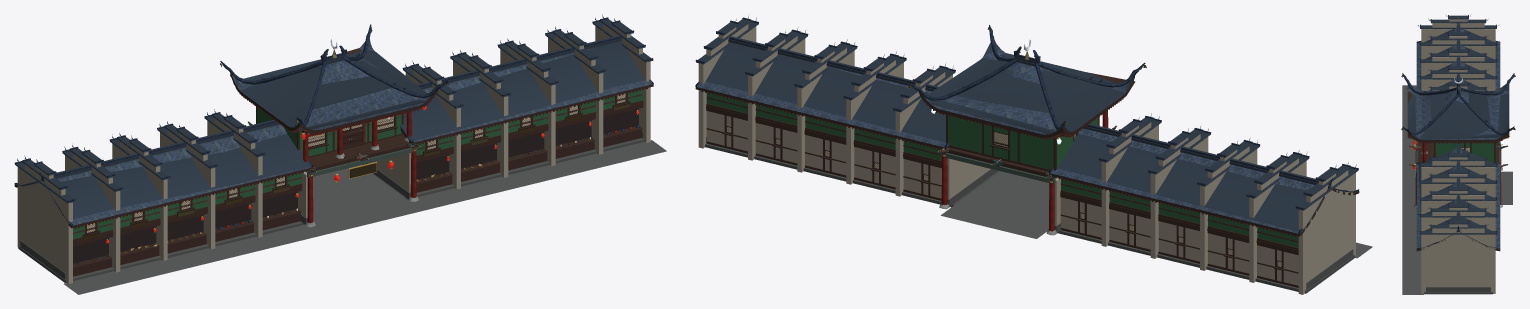
The model's file is prop_market_row.gltf.
3 views of the same model, side by side, from view 1: azimuth 30°, elevation 25°; view 2: azimuth 150°, elevation 25°; view 3: azimuth 270°, elevation 25° (orthographic). The views are drawn at different scales.
Visible parts, largest first — view 1: Far, Near; view 2: Far, Near; view 3: Far, Near.
Part boxes in pixels (bbox=[...]): Far: bbox=[14, 19, 666, 294]; Near: bbox=[14, 14, 653, 267]; Far: bbox=[695, 19, 1372, 294]; Near: bbox=[695, 16, 1358, 273]; Far: bbox=[1401, 15, 1514, 294]; Near: bbox=[1401, 15, 1515, 249].
Size of the model in its own units: 54.6 by 13.73 by 12.65.
Materials: 37 (24 with a texture image).
